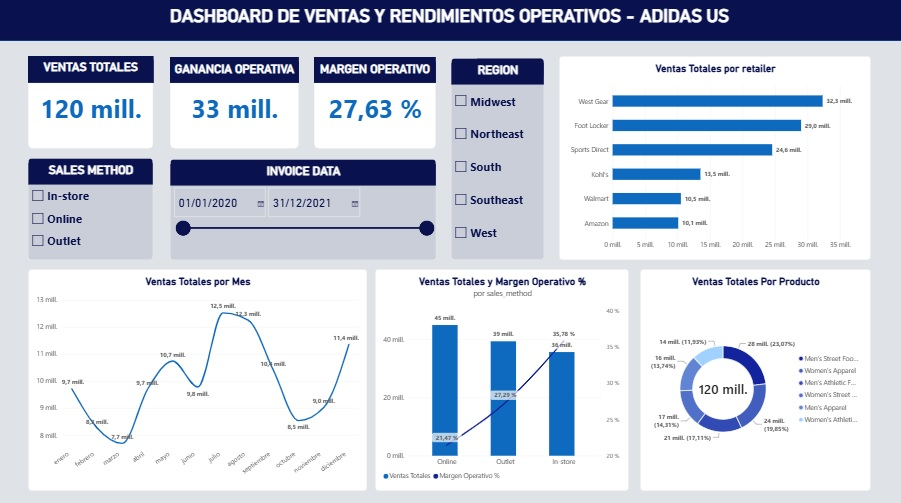

This screenshot's page, from the dashboard's own definition file:
{"tool":"powerbi","page":{"name":"Página 1","canvas":[1920,1080],"ordinal":0},"visuals":[{"type":"cardVisual","title":"VENTAS TOTALES","fields":{"Data":["_medidas.Ventas Totales"]},"box":[61.1,130,266.7,197.8],"z":0},{"type":"cardVisual","title":"GANANCIA OPERATIVA","fields":{"Data":["_medidas.Ganancia Operativa"]},"box":[363.5,131.8,274.3,195.6],"z":1000},{"type":"cardVisual","title":"MARGEN OPERATIVO","fields":{"Data":["_medidas.Margen Operativo %"]},"box":[669.7,131.8,259.4,195.6],"z":2000},{"type":"slicer","title":"REGION","fields":{"Values":["adidas_us_sales_limpio.region"]},"box":[960.9,133.9,197.7,429.4],"z":3000},{"type":"slicer","title":"SALES METHOD","fields":{"Values":["adidas_us_sales_limpio.sales_method"]},"box":[61.7,346.5,265.7,216.9],"z":4000},{"type":"slicer","title":"INVOICE DATA","fields":{"Values":["adidas_us_sales_limpio.invoice_date"]},"box":[363.5,348.7,565.5,214.7],"z":5000},{"type":"lineChart","fields":{"Category":["adidas_us_sales_limpio.invoice_date.Variation.Jerarquía de fechas.Año","adidas_us_sales_limpio.invoice_date.Variation.Jerarquía de fechas.Trimestre","adidas_us_sales_limpio.invoice_date.Variation.Jerarquía de fechas.Mes","adidas_us_sales_limpio.invoice_date.Variation.Jerarquía de fechas.Día"],"Y":["_medidas.Ventas Totales"]},"box":[61.7,582.5,720.7,472],"z":6000},{"type":"lineClusteredColumnComboChart","fields":{"Category":["adidas_us_sales_limpio.sales_method"],"Y":["_medidas.Ventas Totales"],"Y2":["_medidas.Margen Operativo %"]},"box":[799.4,582.5,540,472],"z":7000},{"type":"barChart","fields":{"Category":["adidas_us_sales_limpio.retailer"],"Y":["_medidas.Ventas Totales"]},"box":[1190.6,129.7,663.3,433.7],"z":8000},{"type":"donutChart","title":"Ventas Totales Por Producto","fields":{"Category":["adidas_us_sales_limpio.product"],"Y":["_medidas.Ventas Totales"]},"box":[1362.8,582.5,491.1,472],"z":9000},{"type":"shape","box":[0,0,1919.8,97.8],"z":10000},{"type":"textbox","box":[363.5,21.3,1194.8,112.7],"z":11000}]}

Visuals, with their boxes in screenshot pixels (x1, y1, x2, y2), scaled from the page's 1920x1080 canvas onto the 901x503 screenshot:
"VENTAS TOTALES" cardVisual: [left=29, top=61, right=154, bottom=153]
"GANANCIA OPERATIVA" cardVisual: [left=171, top=61, right=299, bottom=152]
"MARGEN OPERATIVO" cardVisual: [left=314, top=61, right=436, bottom=152]
"REGION" slicer: [left=451, top=62, right=544, bottom=262]
"SALES METHOD" slicer: [left=29, top=161, right=154, bottom=262]
"INVOICE DATA" slicer: [left=171, top=162, right=436, bottom=262]
lineChart - adidas_us_sales_limpio.invoice_date.Variation.Jerarquía de fechas.Año x adidas_us_sales_limpio.invoice_date.Variation.Jerarquía de fechas.Trimestre: [left=29, top=271, right=367, bottom=491]
lineClusteredColumnComboChart - adidas_us_sales_limpio.sales_method x _medidas.Ventas Totales: [left=375, top=271, right=629, bottom=491]
barChart - adidas_us_sales_limpio.retailer x _medidas.Ventas Totales: [left=559, top=60, right=870, bottom=262]
"Ventas Totales Por Producto" donutChart: [left=640, top=271, right=870, bottom=491]
shape: [left=0, top=0, right=900, bottom=46]
textbox: [left=171, top=10, right=731, bottom=62]
